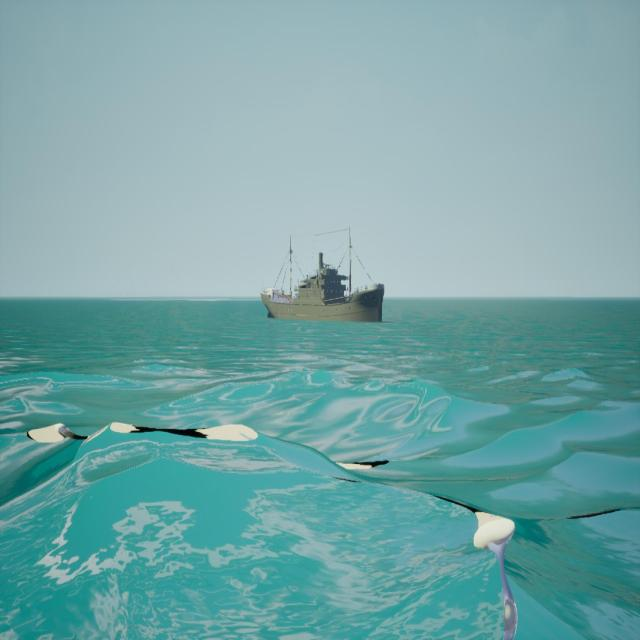fishing ship: (262, 231, 386, 325)
